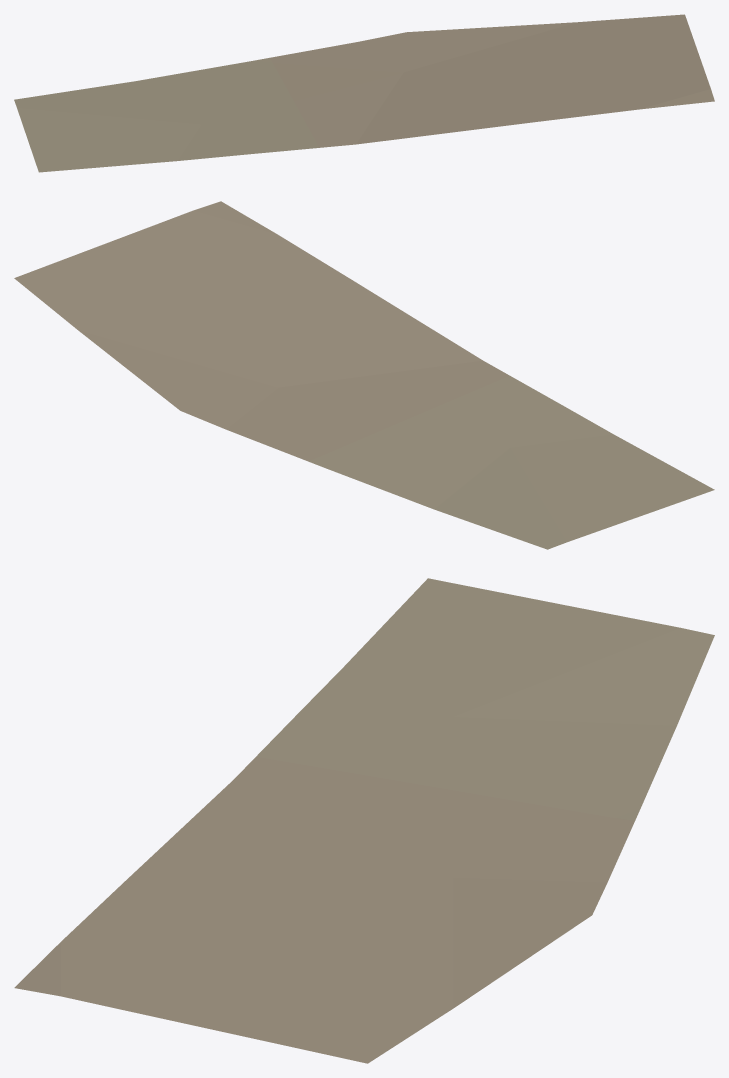
The model's file is farm_8_-3_soil.glb.
3 renders of one model, top to bottom at view 1: azimuth 30°, elevation 25°; view 2: azimuth 150°, elevation 25°; view 3: azimuth 270°, elevation 25°, orthographic. The views are drawn at different scales.
Visible parts, largest first — view 1: geometry_0; view 2: geometry_0; view 3: geometry_0.
Boxes of the visible parts, bbox=[...] form: geometry_0: bbox=[14, 14, 714, 172]; geometry_0: bbox=[14, 201, 714, 549]; geometry_0: bbox=[14, 578, 714, 1063].
Size of the model in its own units: 249 by 11.62 by 143.
